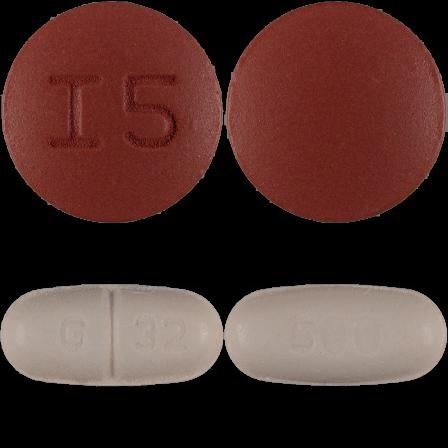50436-0175: (0, 0, 224, 224)
